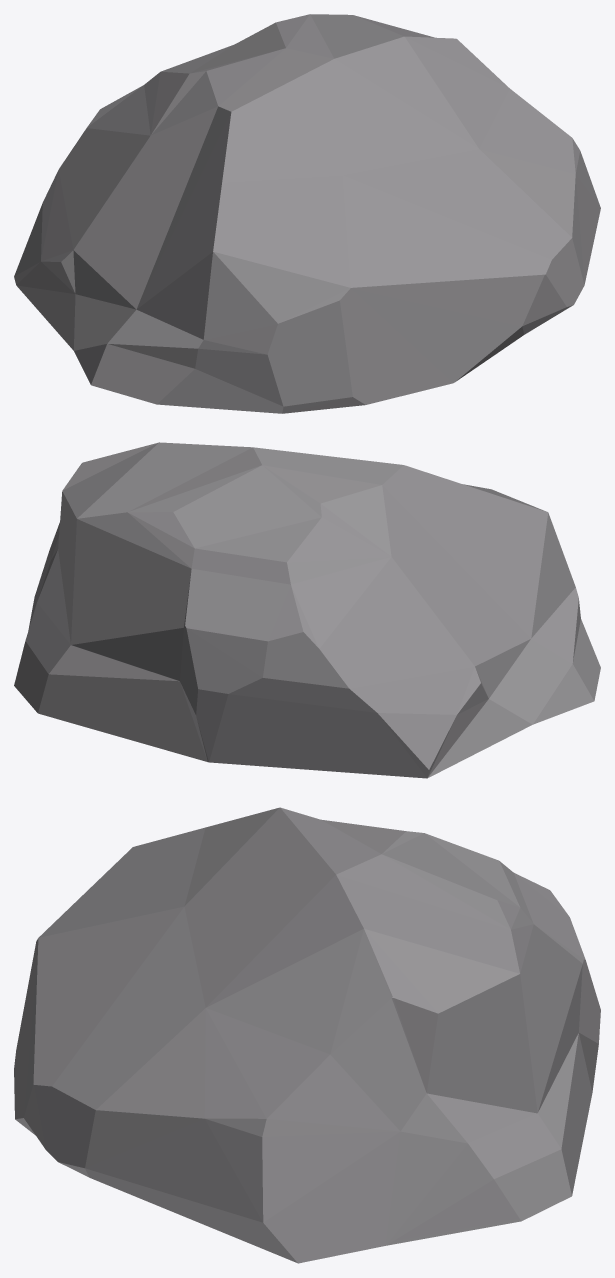
The model's file is Rock_Round_l_01.fbx.
3 renders of one model, top to bottom at view 1: azimuth 30°, elevation 25°; view 2: azimuth 150°, elevation 25°; view 3: azimuth 270°, elevation 25°, orthographic. The views are drawn at different scales.
Parts seen in each view (by area): view 1: Rock_Round_l_01; view 2: Rock_Round_l_01; view 3: Rock_Round_l_01.
Part boxes in pixels (left/top/right/bottom): Rock_Round_l_01: left=14, top=14, right=600, bottom=413; Rock_Round_l_01: left=14, top=442, right=600, bottom=778; Rock_Round_l_01: left=14, top=807, right=600, bottom=1263.
Bounding box in the file's own units: 342 × 139 × 283.
